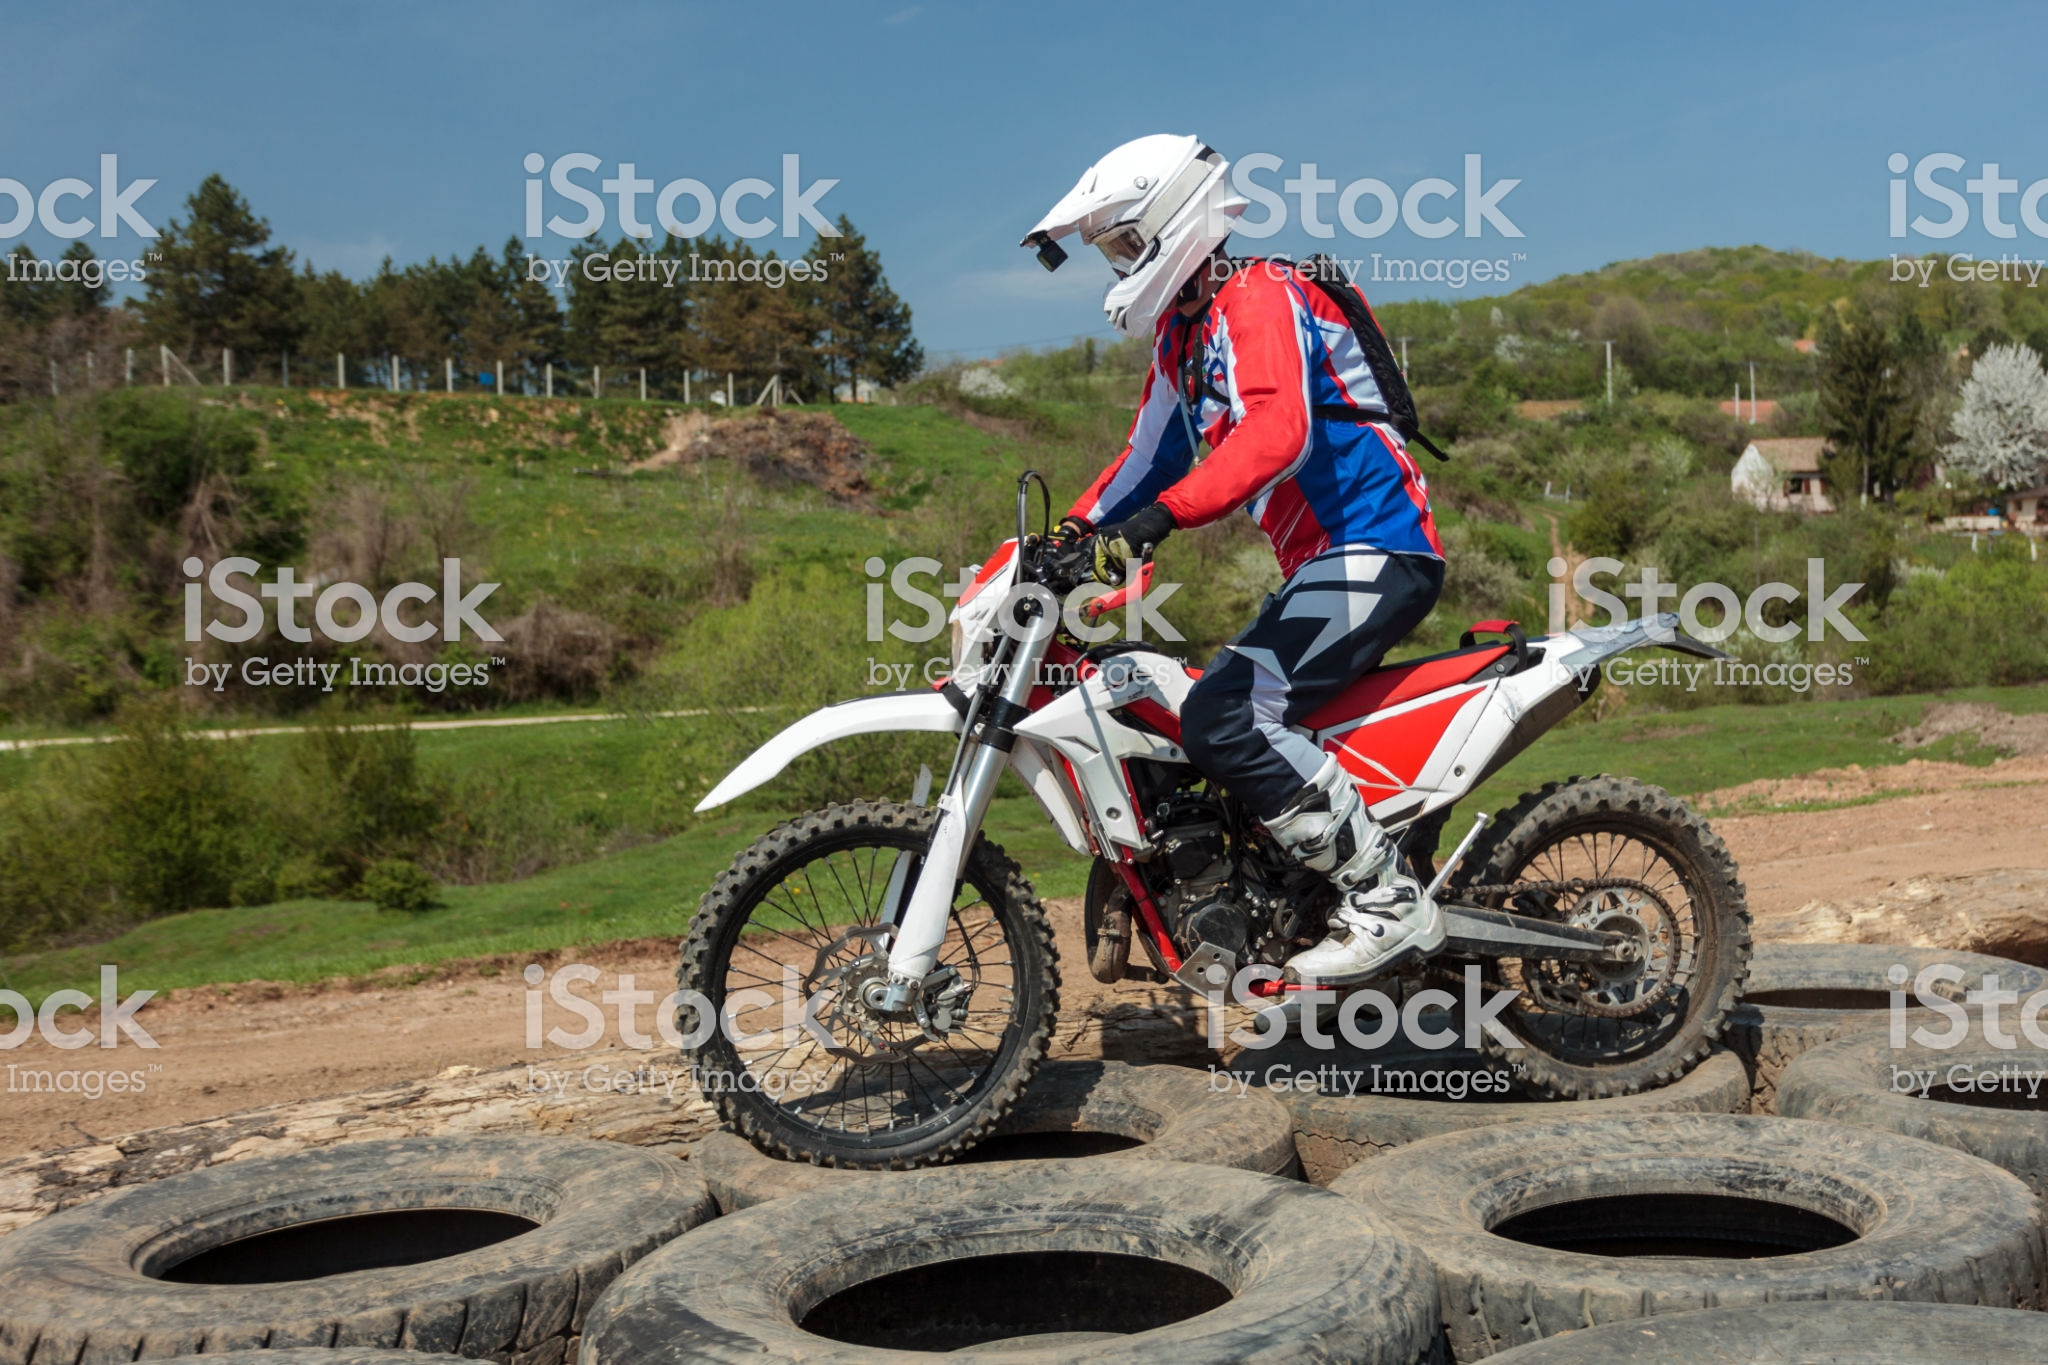helmet: (1048, 148, 1250, 302)
